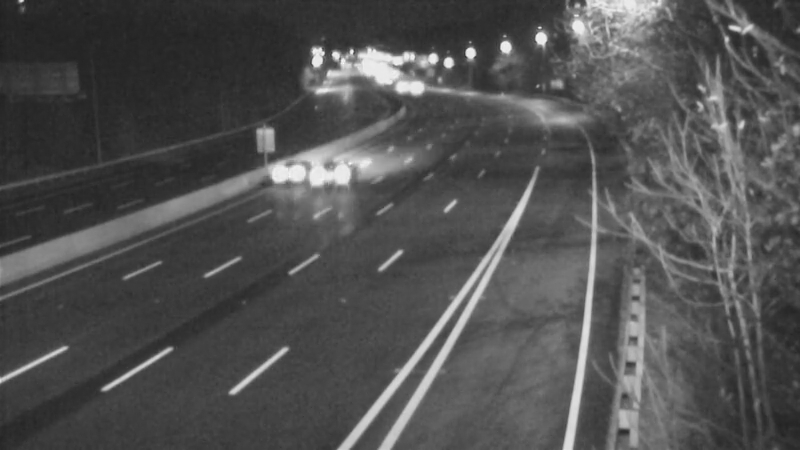vehicle: (301, 130, 381, 210), (257, 132, 337, 212), (377, 60, 427, 110), (395, 61, 445, 111)
